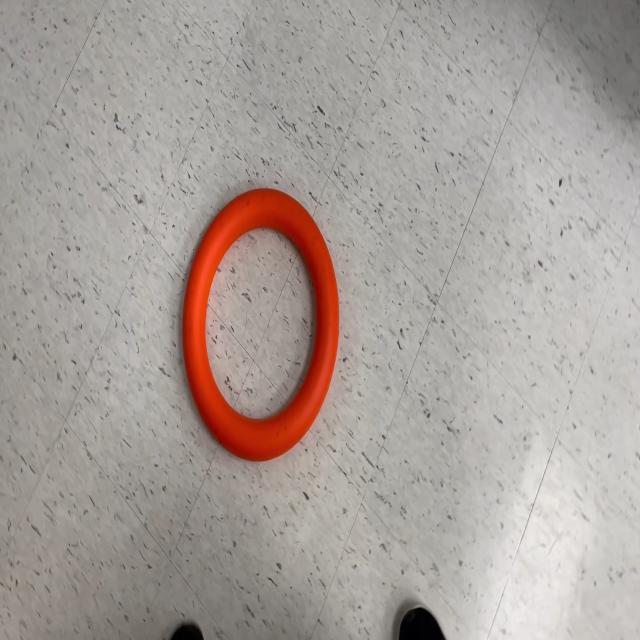note: (182, 188, 340, 462)
